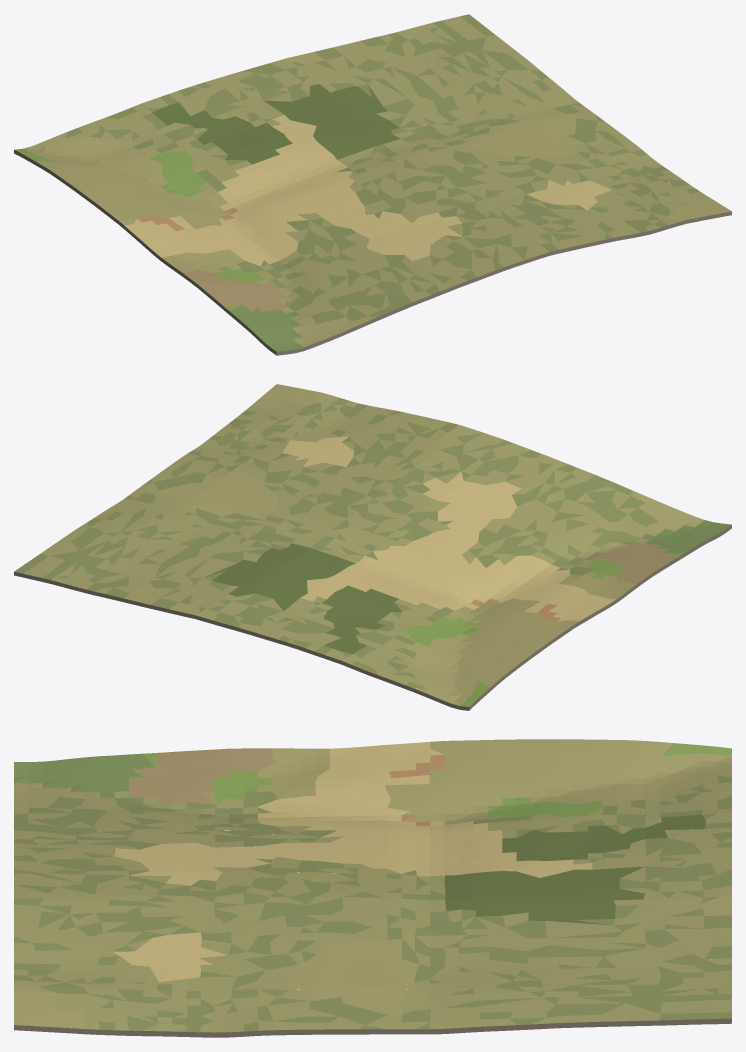
Rendered from parca_+1_-1-uzak.glb.
3 views of the same model, one above another, from view 1: azimuth 30°, elevation 25°; view 2: azimuth 150°, elevation 25°; view 3: azimuth 270°, elevation 25° (orthographic). The views are drawn at different scales.
Parts seen in each view (by area): view 1: parca_+1_-1_arazi_uzak; view 2: parca_+1_-1_arazi_uzak; view 3: parca_+1_-1_arazi_uzak.
Boxes of the visible parts, box(x1,y1,x2,y2) form: parca_+1_-1_arazi_uzak: box(14, 14, 731, 355); parca_+1_-1_arazi_uzak: box(14, 384, 731, 710); parca_+1_-1_arazi_uzak: box(14, 739, 731, 1037).
Size of the model in its own units: 1000 by 85.57 by 1000.
